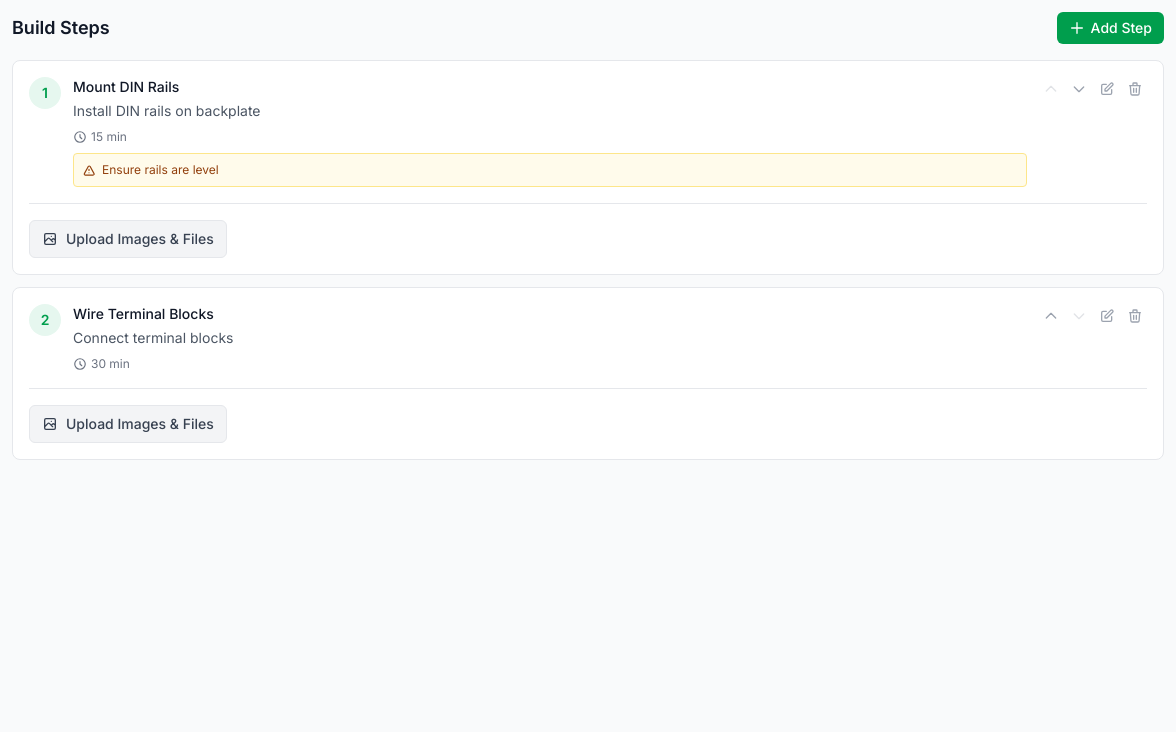
Test: StepEditor › shows add step form when Add Step button is clicked
The image size is (1176, 732).
Step 1. Click the button "Add Step" → click(1110, 28), box [1057,12,1164,44]
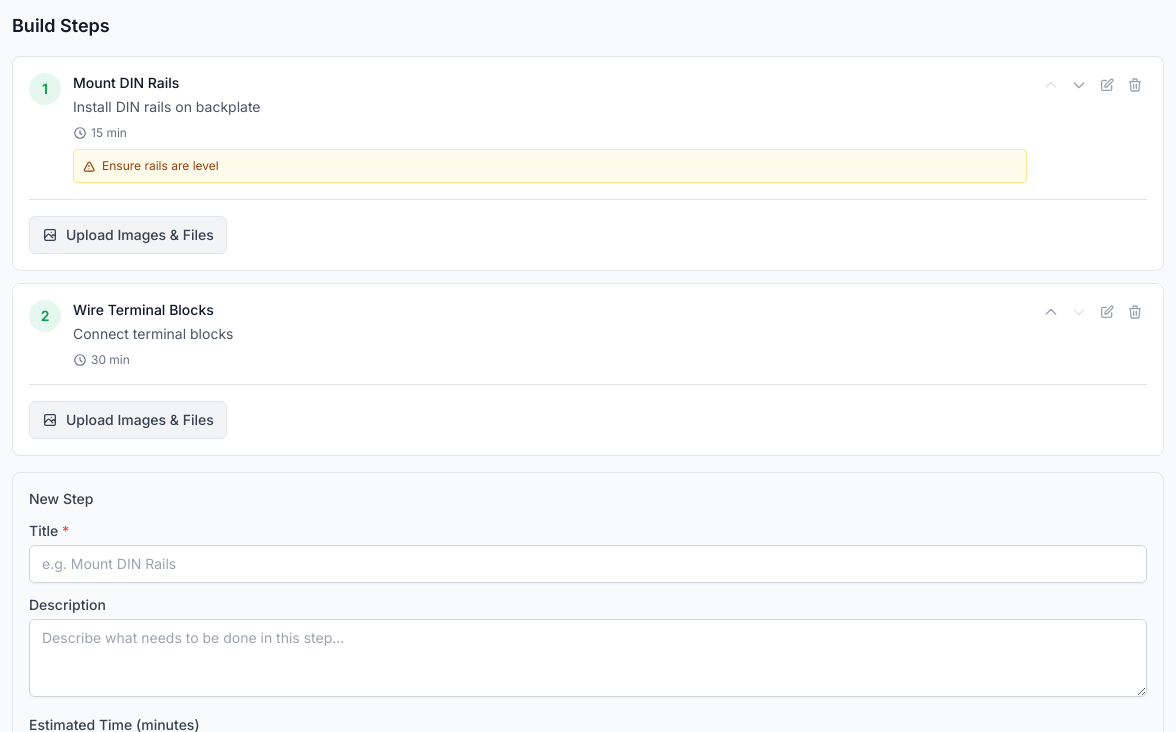
Expected: the field with id "new-step-title" is shown, [29,545,1147,583]
